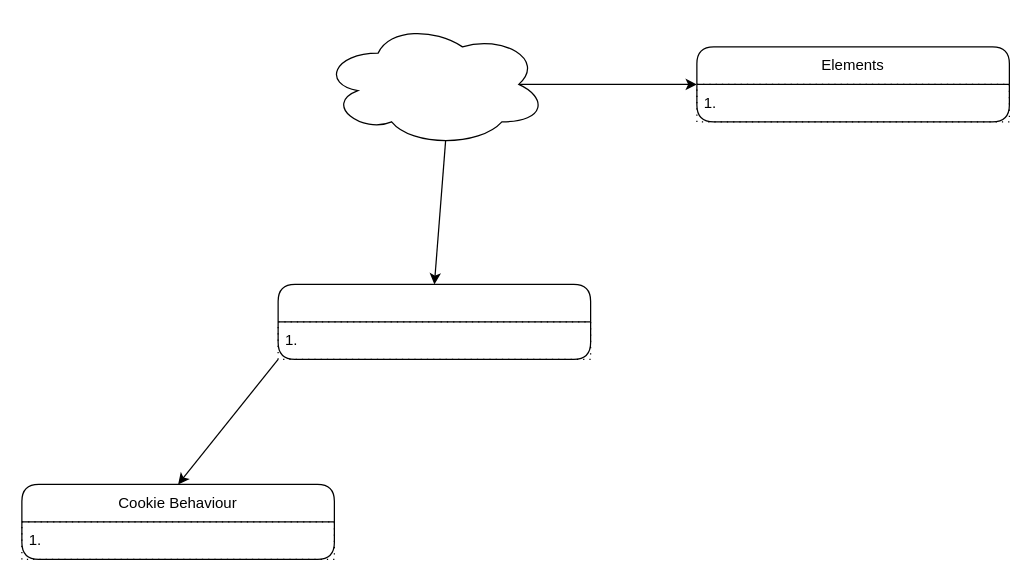
The diagram is 1031 pixels wide and 581 high, and some of its shapes have lost their labels. Each missing label, with the box of its shape:
Browser Specific: (321, 21, 547, 147)
Secuirty: (277, 283, 591, 359)
